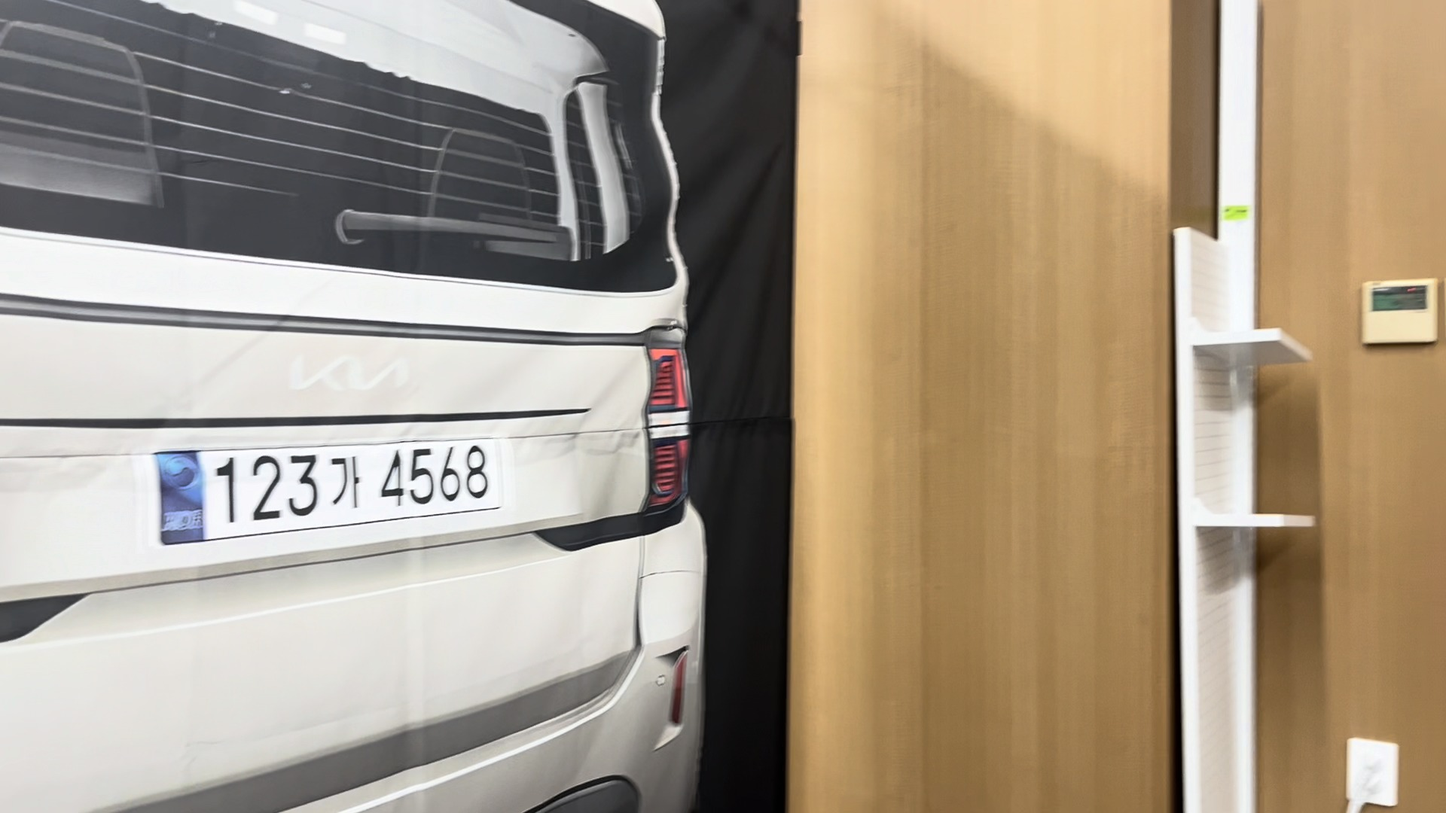license_plate: (155, 440, 501, 544)
tail_light: (645, 330, 690, 513), (670, 650, 688, 725)
